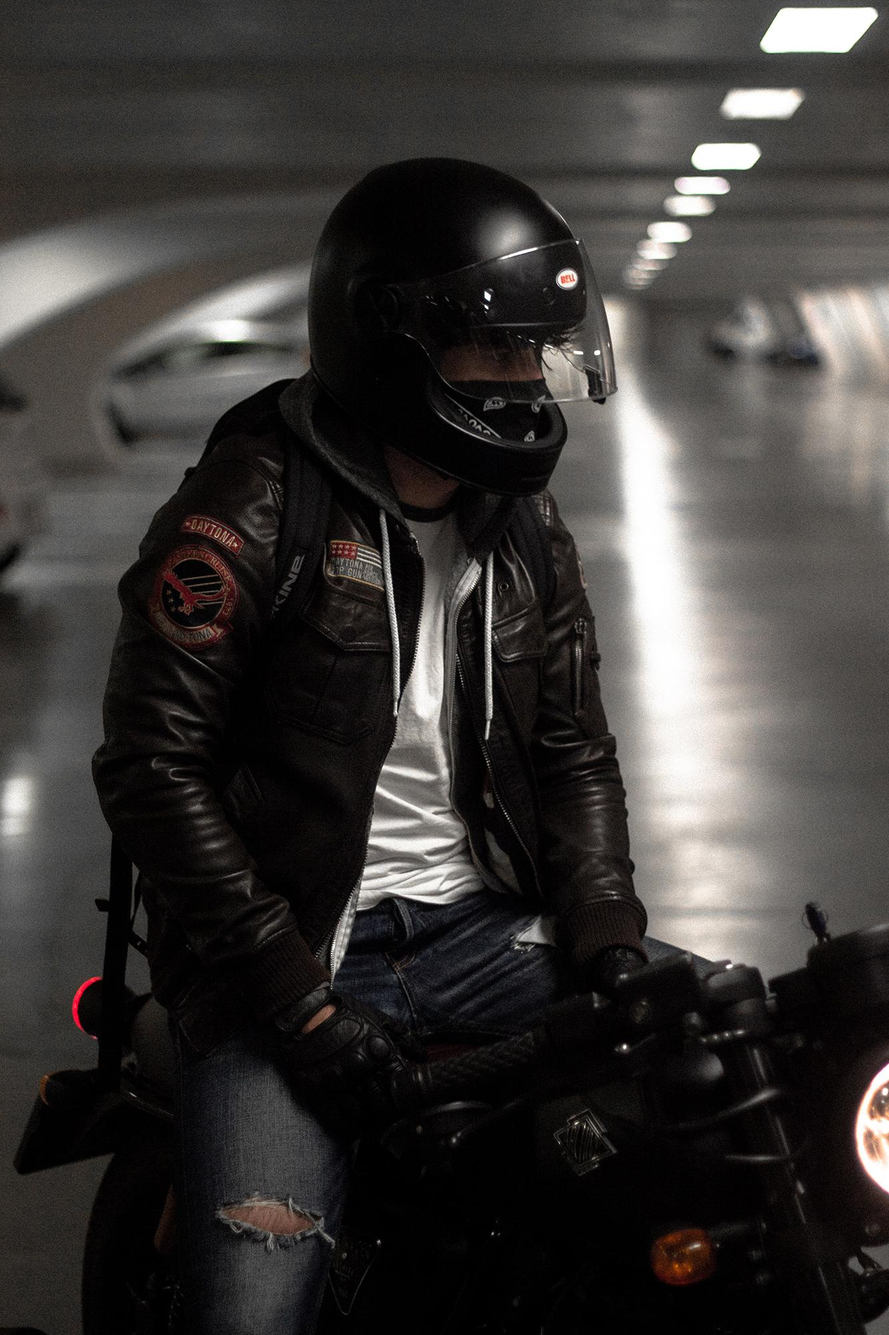helmet: (305, 153, 620, 500)
